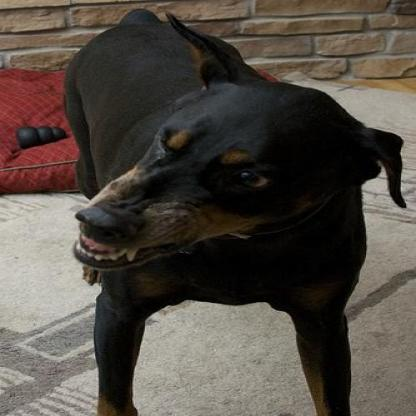Doberman: (58, 8, 404, 414)
